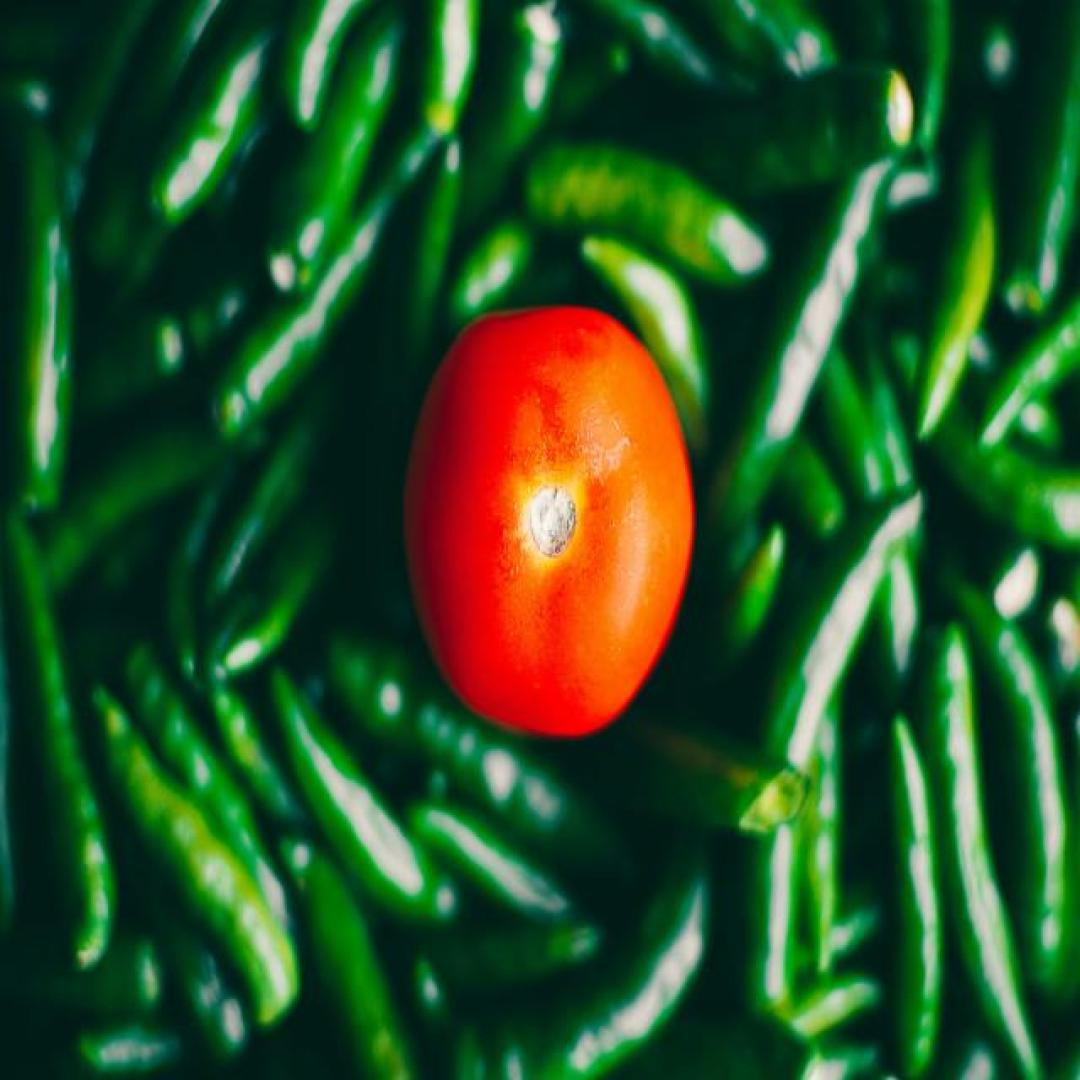matang: (404, 306, 696, 738)
